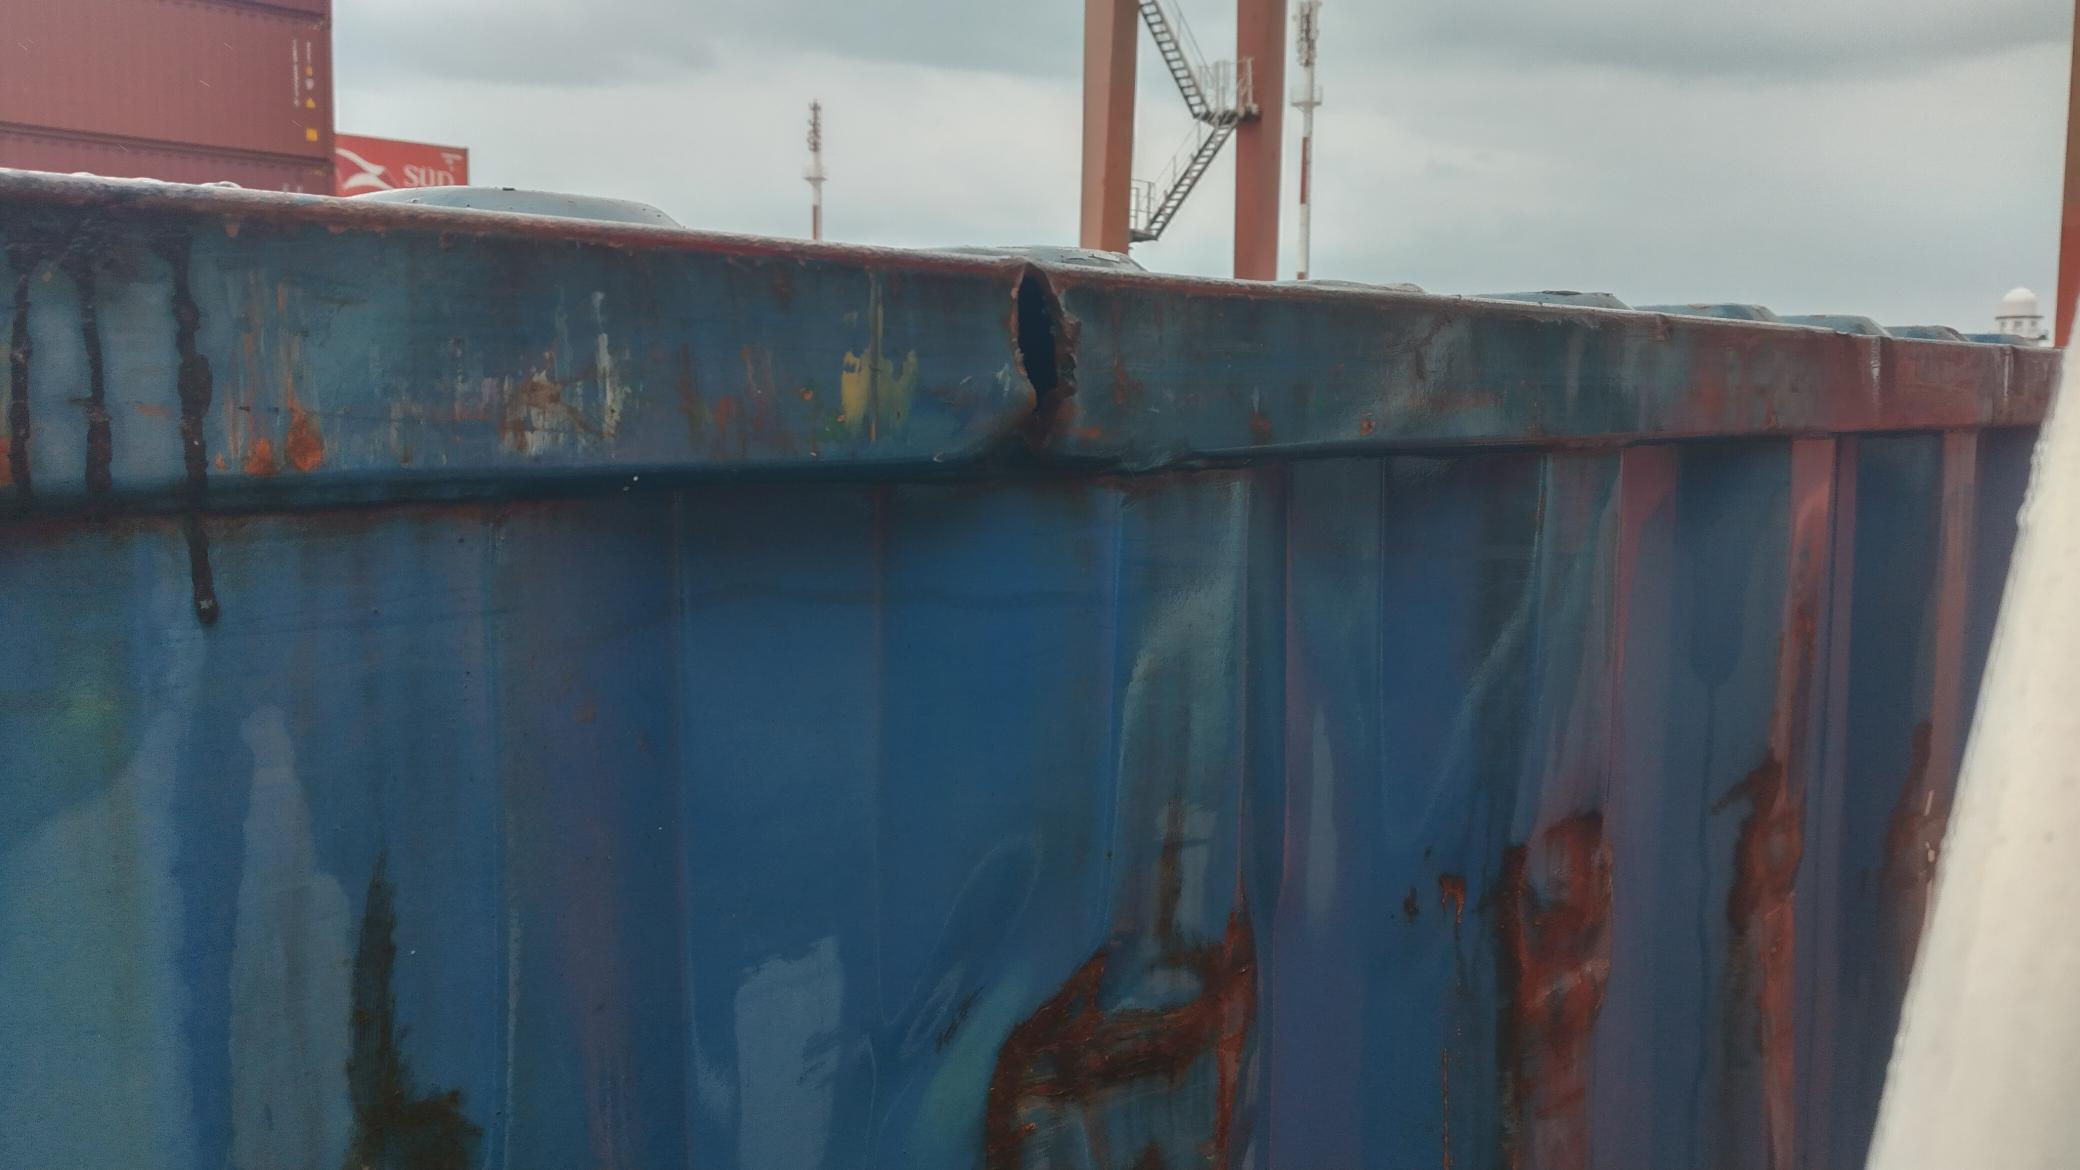cut: (953, 260, 1173, 487)
